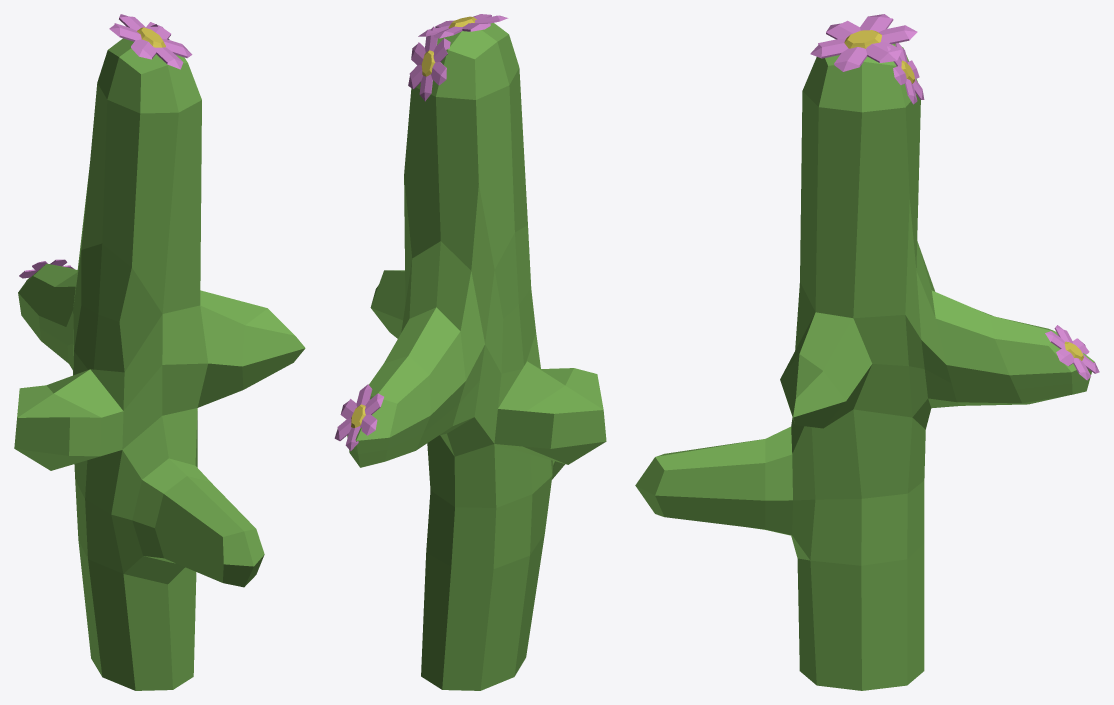
Rendered from cactus.fbx.
The picture shows the model from 3 angles, left to right: view 1: azimuth 30°, elevation 25°; view 2: azimuth 150°, elevation 25°; view 3: azimuth 270°, elevation 25°; orthographic projection. The views are drawn at different scales.
Visible parts, largest first — view 1: Cactus; view 2: Cactus; view 3: Cactus.
Part boxes in pixels (x1,y1,x2,y2): Cactus: (14,14,305,690); Cactus: (334,14,606,690); Cactus: (635,14,1099,690).
Size of the model in its own units: 1.4 by 3.3 by 2.14.
